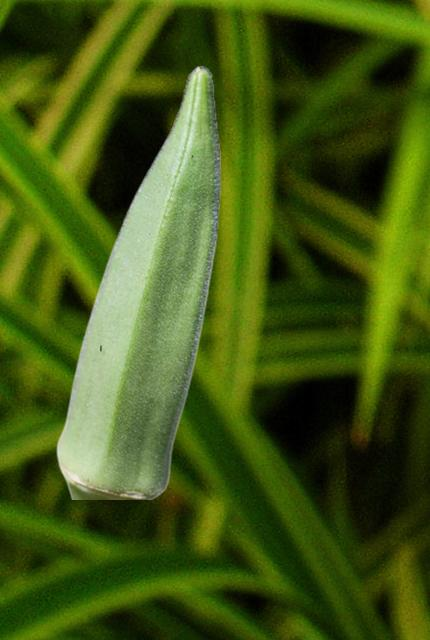okra: (56, 65, 220, 498)
